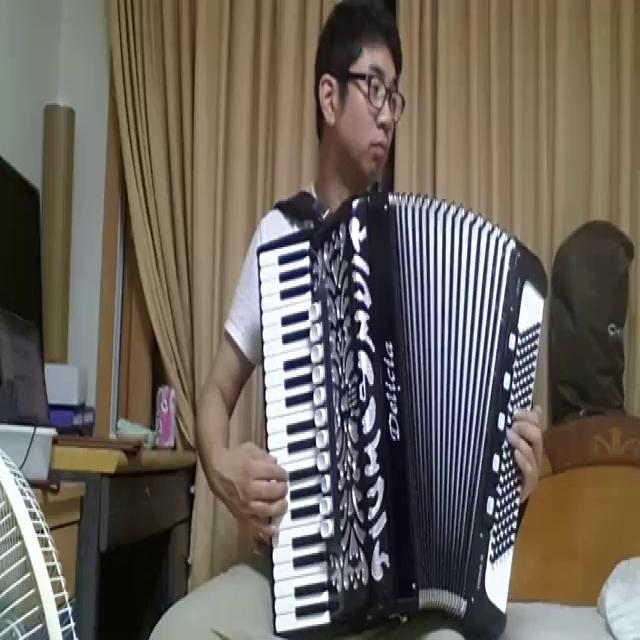Accordion: (255, 197, 546, 640)
